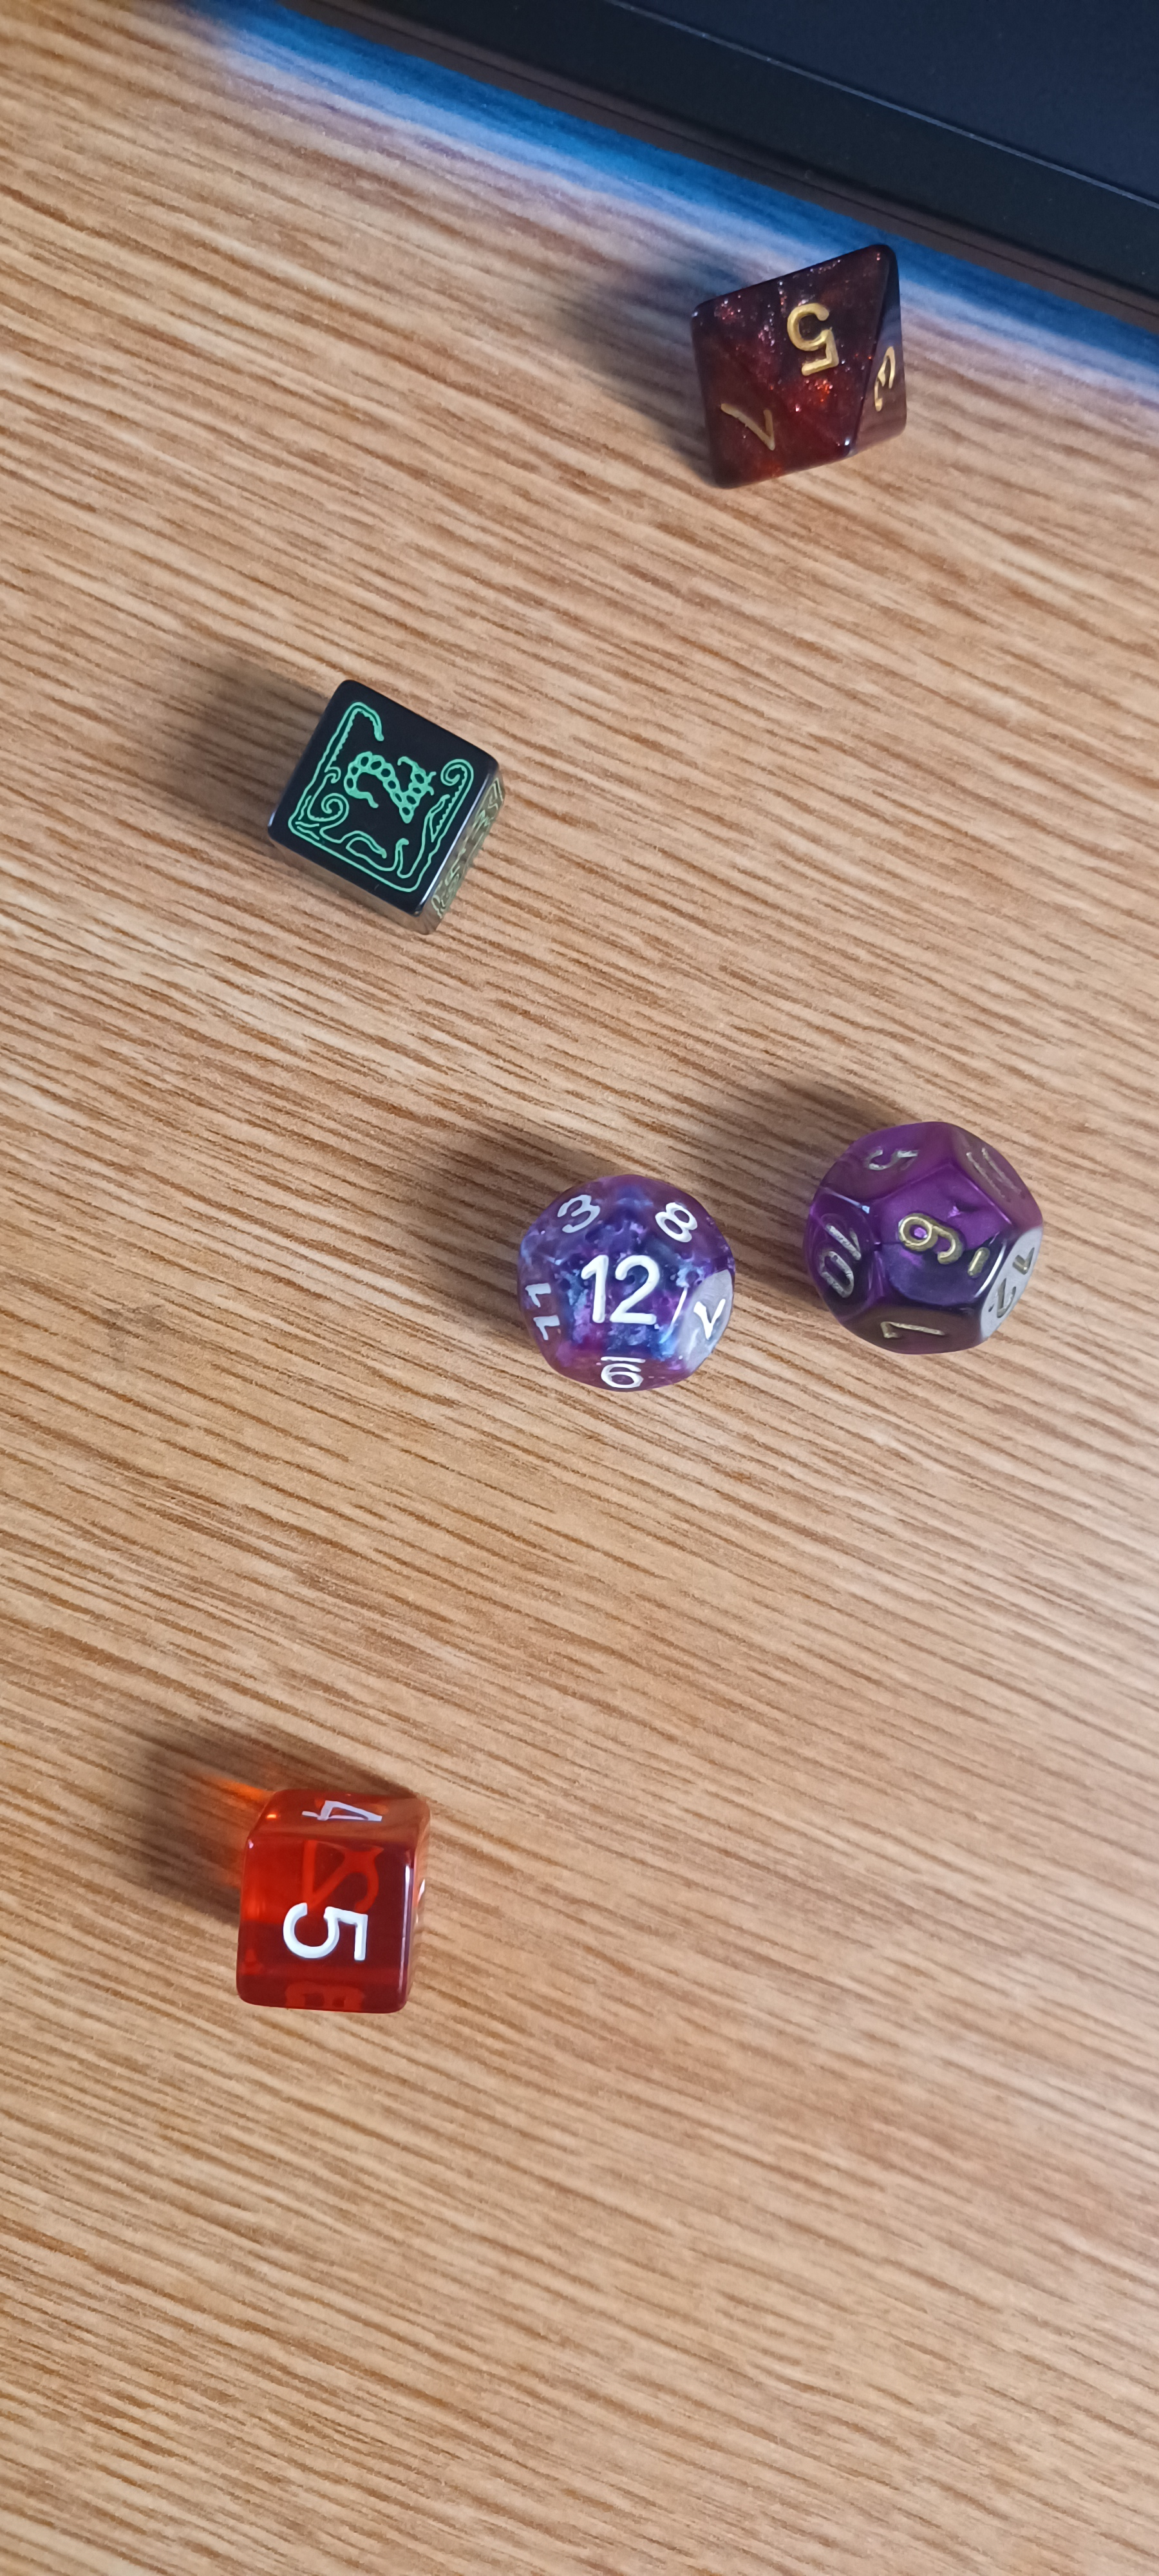five: (657, 209, 967, 501), (205, 1750, 478, 2044)
nine: (780, 1097, 1082, 1383)
twelve: (502, 1157, 768, 1416)
two: (241, 652, 534, 931)
